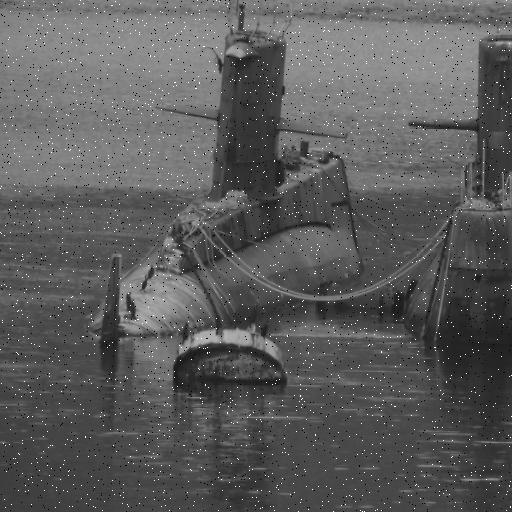submarine: (87, 1, 377, 338), (397, 1, 512, 346)
